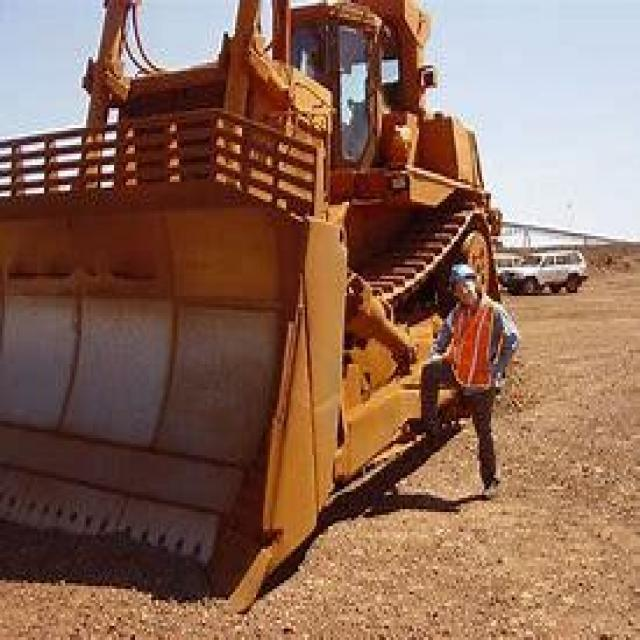Bulldozer: (0, 3, 526, 606)
